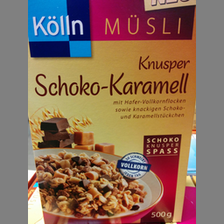cereal: (28, 1, 196, 224)
